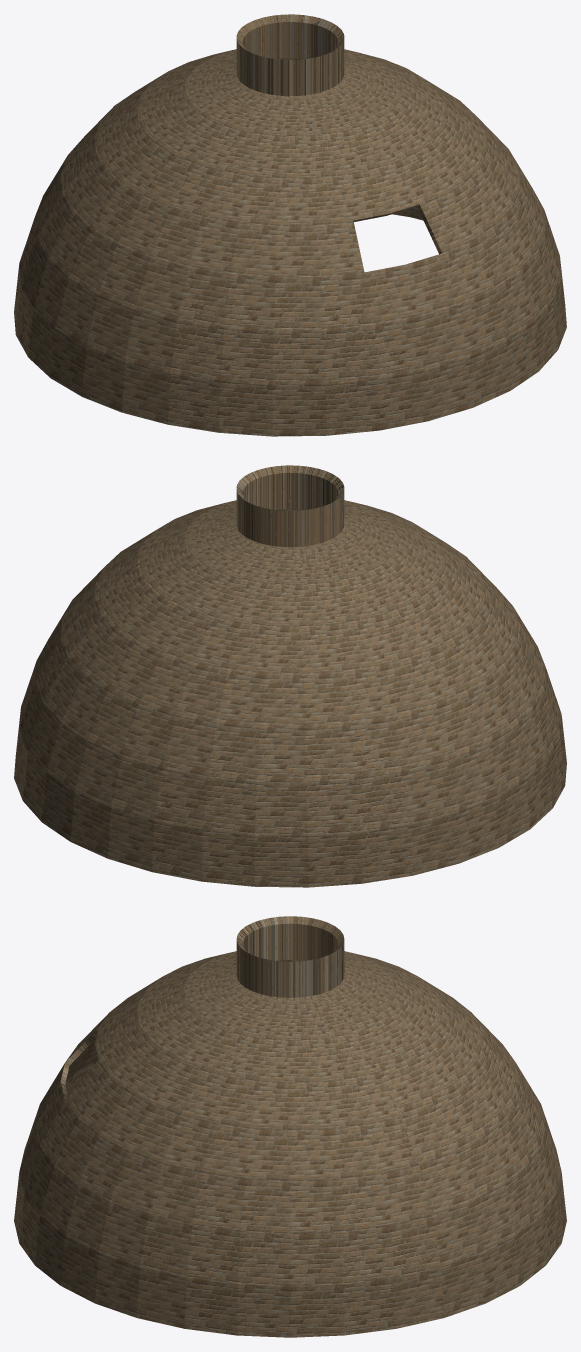
Rendered from Amazonie_Labyrinthe_Dome.fbx.
The picture shows the model from 3 angles, top to bottom: view 1: azimuth 30°, elevation 25°; view 2: azimuth 150°, elevation 25°; view 3: azimuth 270°, elevation 25°; orthographic projection.
Parts seen in each view (by area): view 1: Sphere; view 2: Sphere; view 3: Sphere.
Part boxes in pixels (x1,y1,x2,y2): Sphere: (14, 14, 566, 436); Sphere: (14, 465, 566, 887); Sphere: (14, 916, 566, 1337).
Size of the model in its own units: 932 by 525 by 932.
